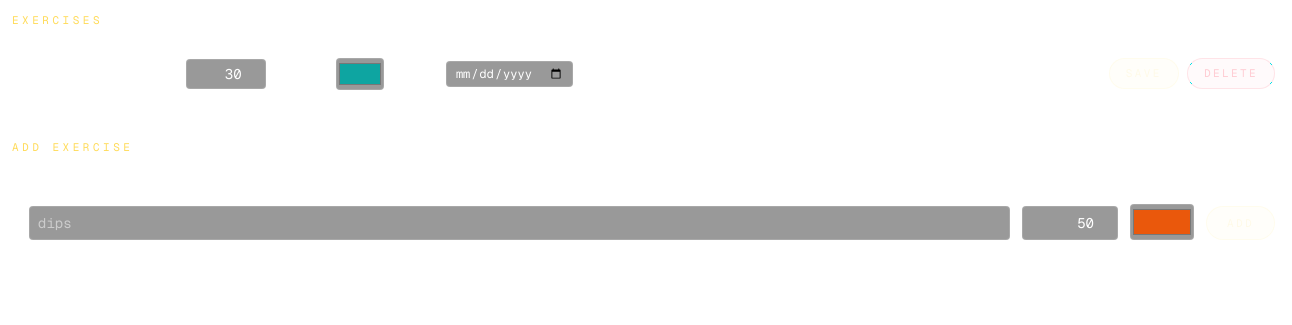
Test: StrengthSettings — failed saves keep the form intact (#371 review) › does not clear the date or reset the target when the save fails
The width and height of the screenshot is (1292, 325).
Replace the text in the number field labelled "target" in the row of "pullups" with "50". click: (226, 74)
box: top-left (186, 58), bottom-right (266, 88)
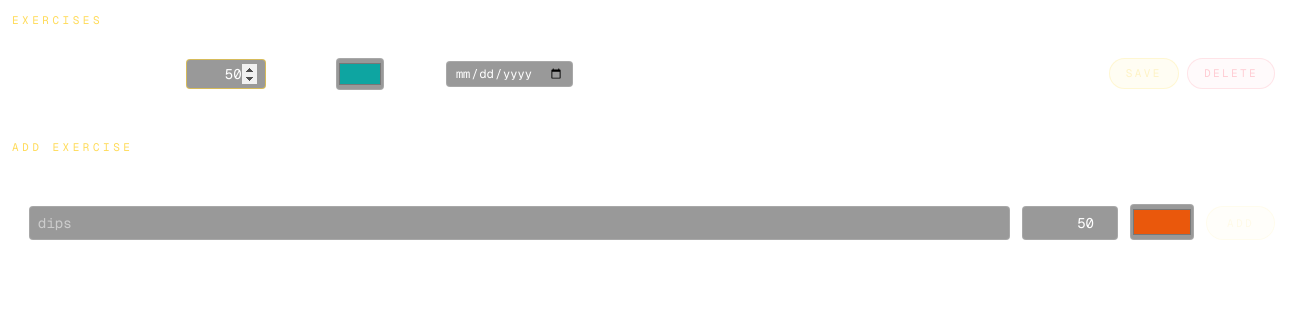
Type "2099-09-01" into the date field named "effective date for the pullups target". click: (509, 74)
box: top-left (446, 60), bottom-right (573, 86)
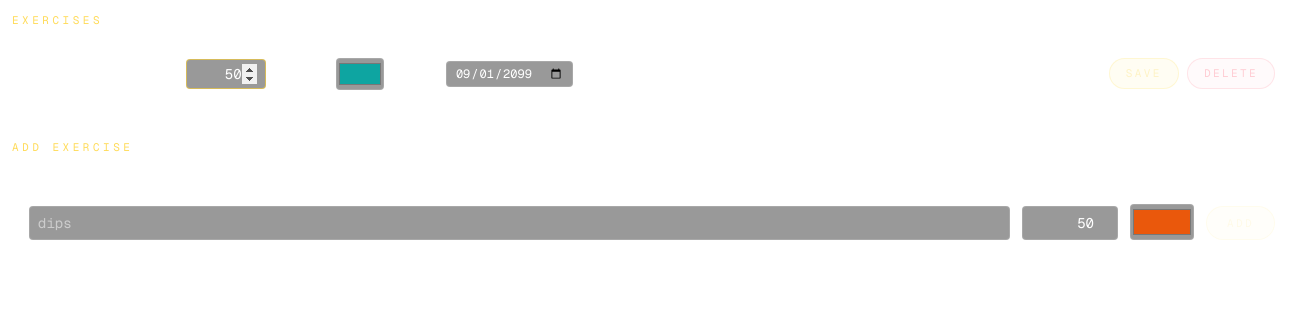
Click the button "Save". click: (1144, 74)
box: top-left (1109, 58), bottom-right (1179, 89)
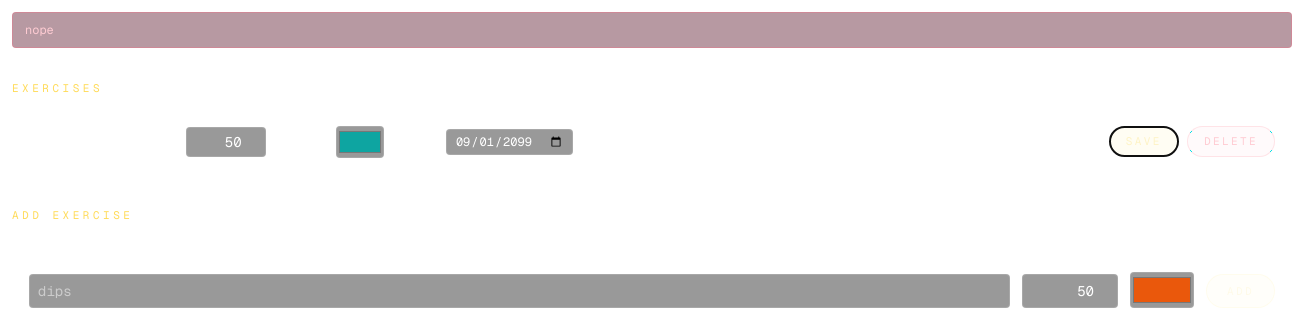
Expected: the text "nope" is shown, top-left (12, 12), bottom-right (1291, 48)
